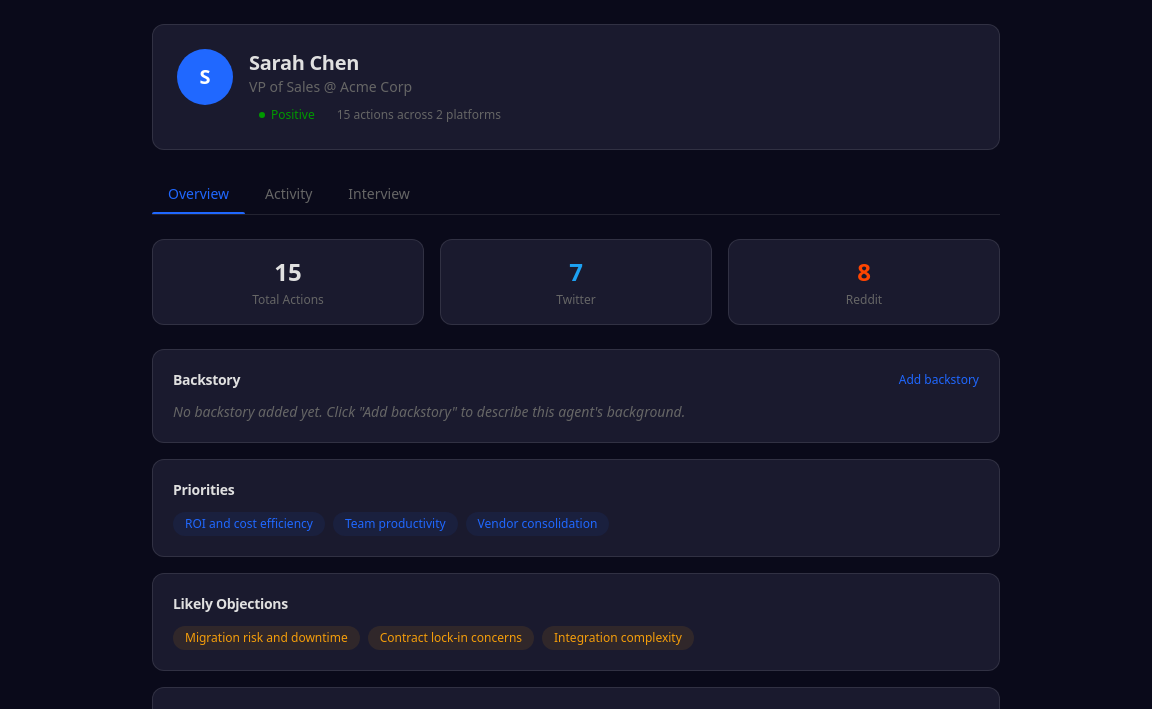
Scenario: AgentProfileView — E2E agent management › interview tab › shows initial greeting from agent
This screenshot has width=1152, height=709.
Click the button "Interview": x=379, y=194 [332,174,426,214]
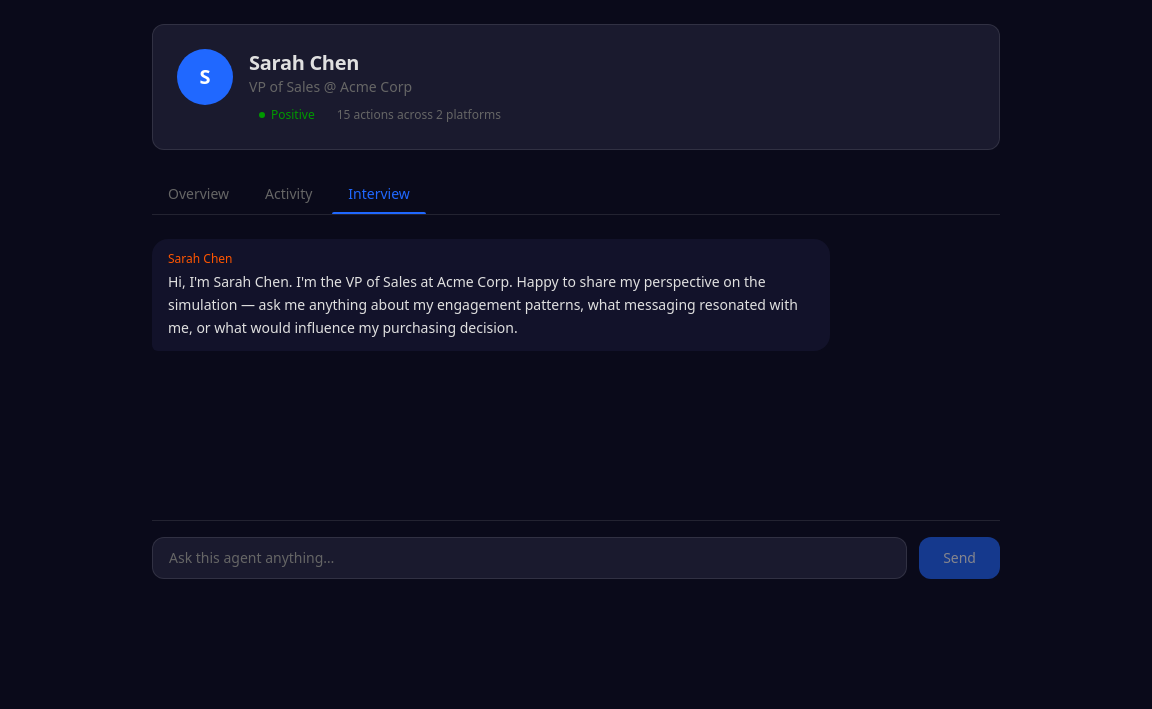
Expected: the text "VP of Sales" is shown, [249,77,324,96]
Expected: the text "I'm Sarah Chen" is shown, [168,272,798,336]
